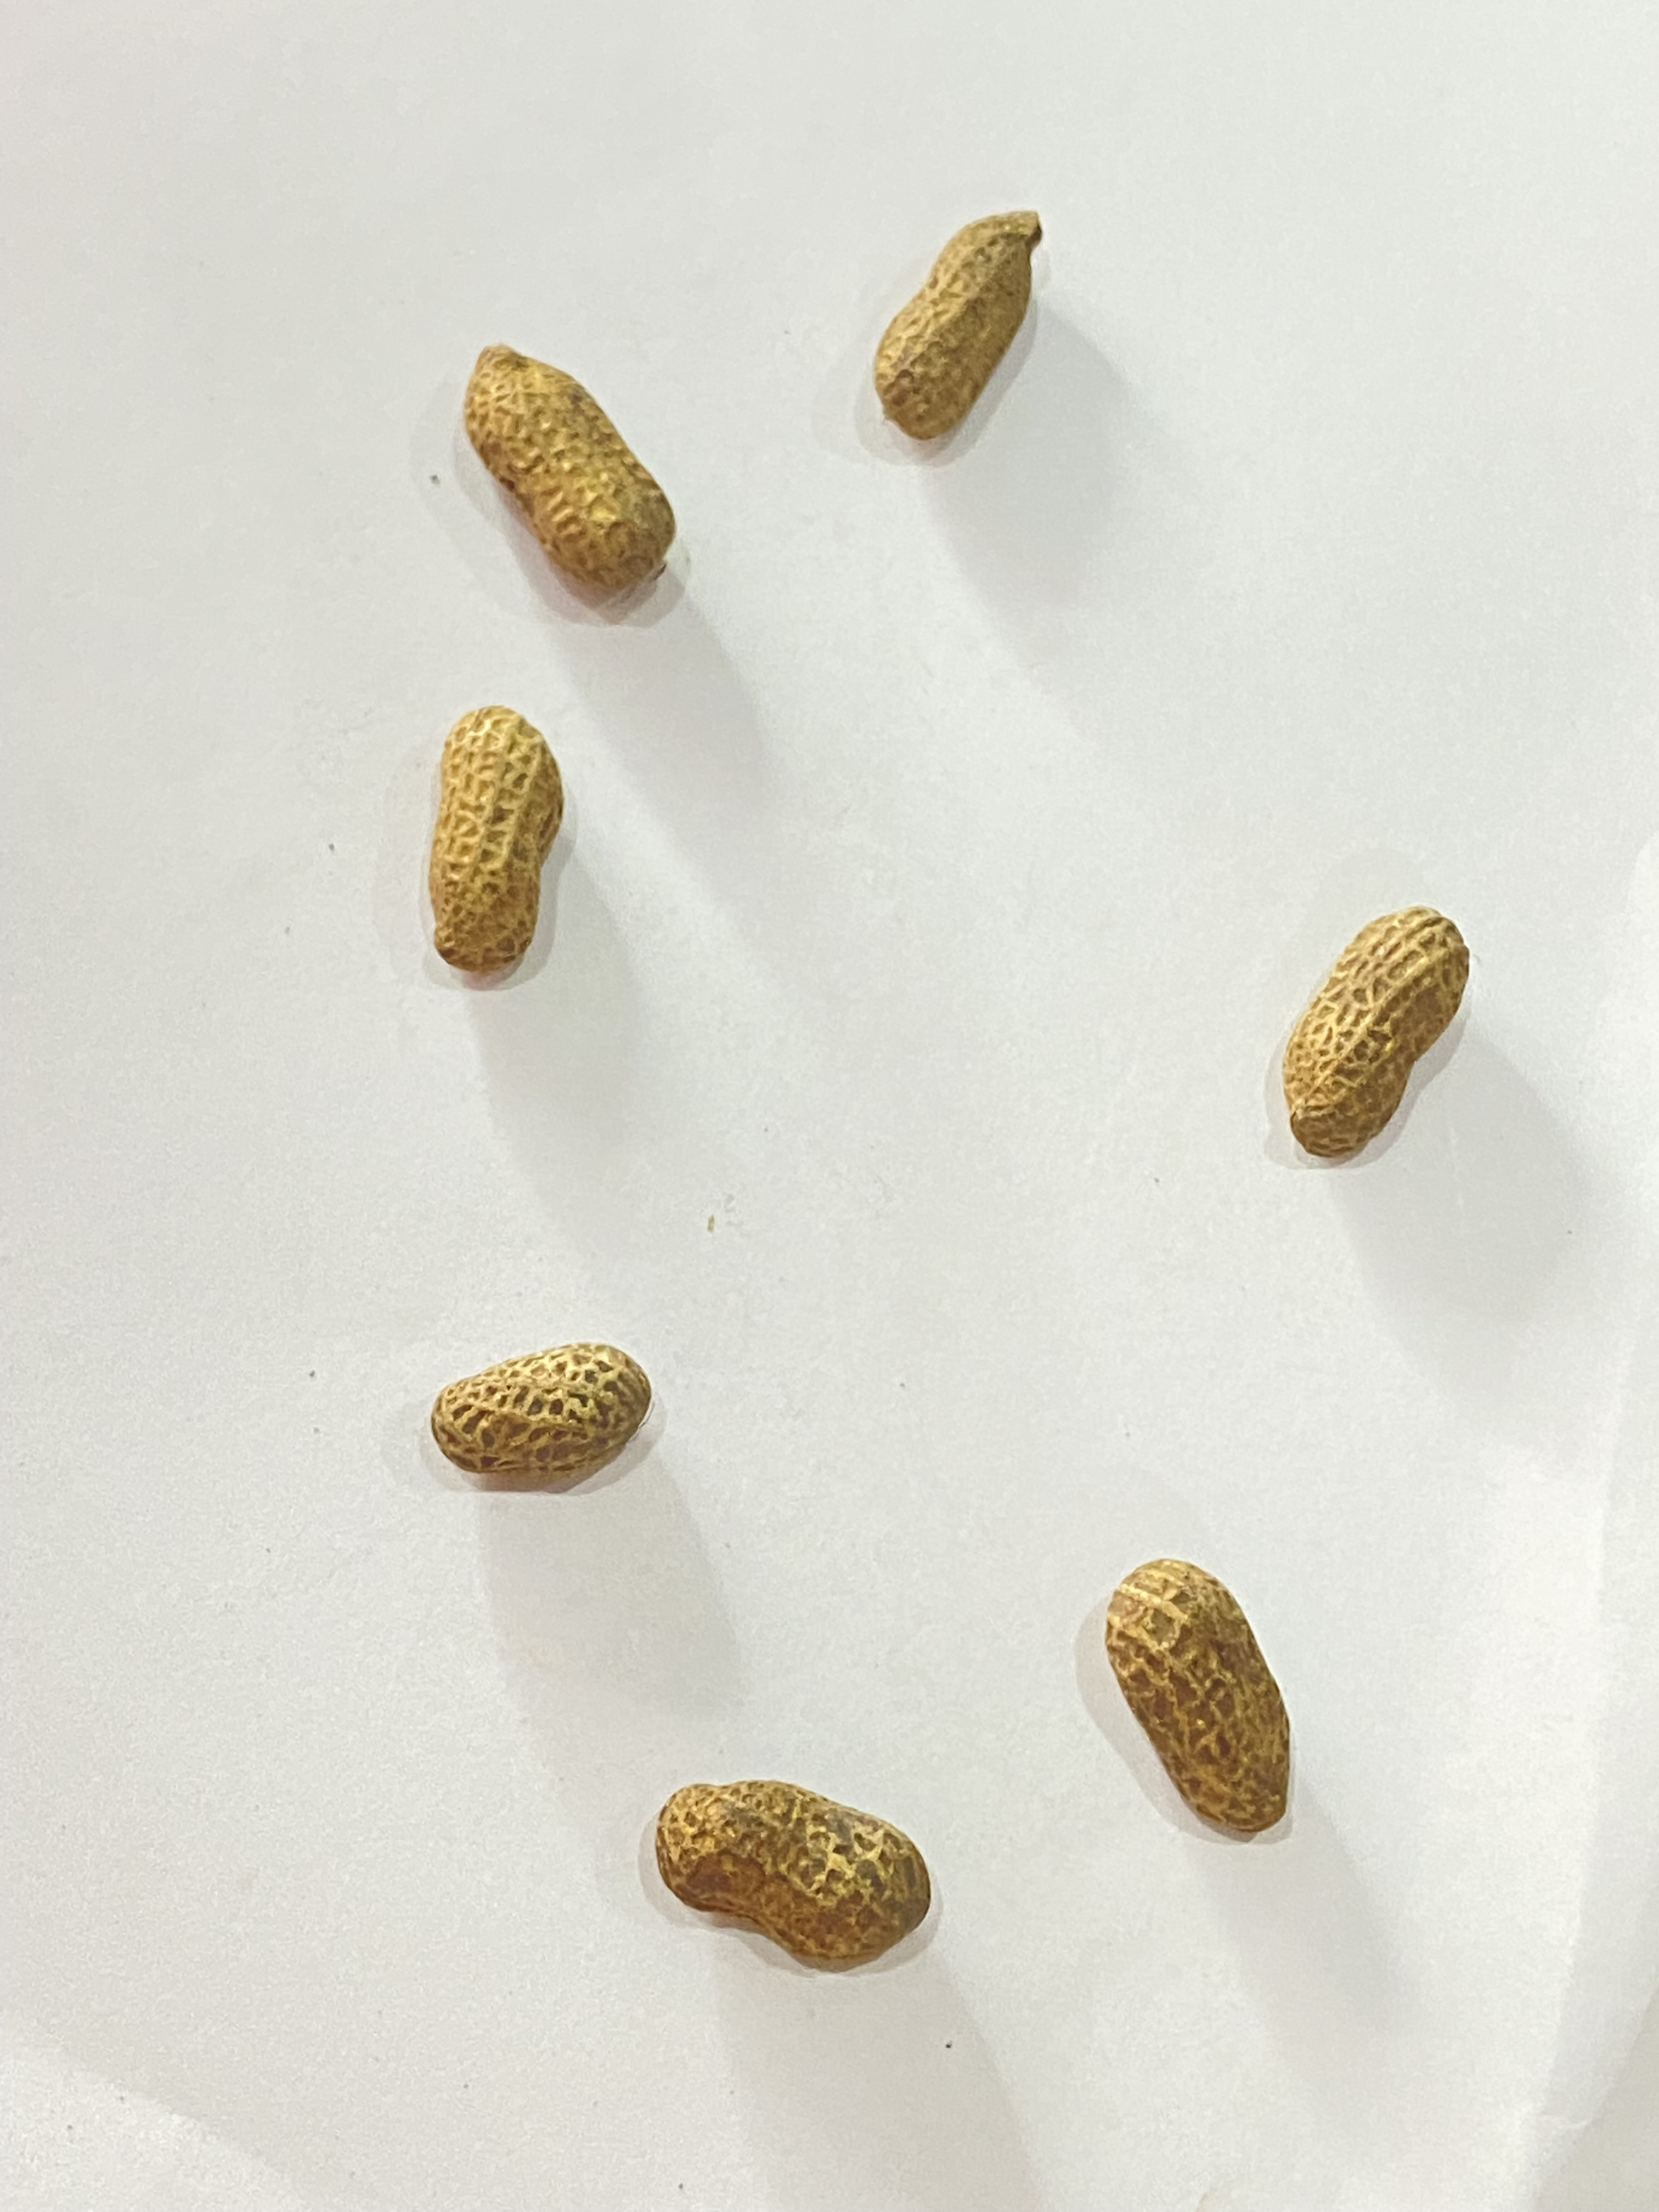kacang1: (423, 1318, 683, 1489)
kacang2: (437, 320, 725, 615), (845, 197, 1094, 451), (1098, 1531, 1300, 1839), (1260, 894, 1486, 1163), (640, 1761, 934, 1966), (392, 691, 587, 996)
